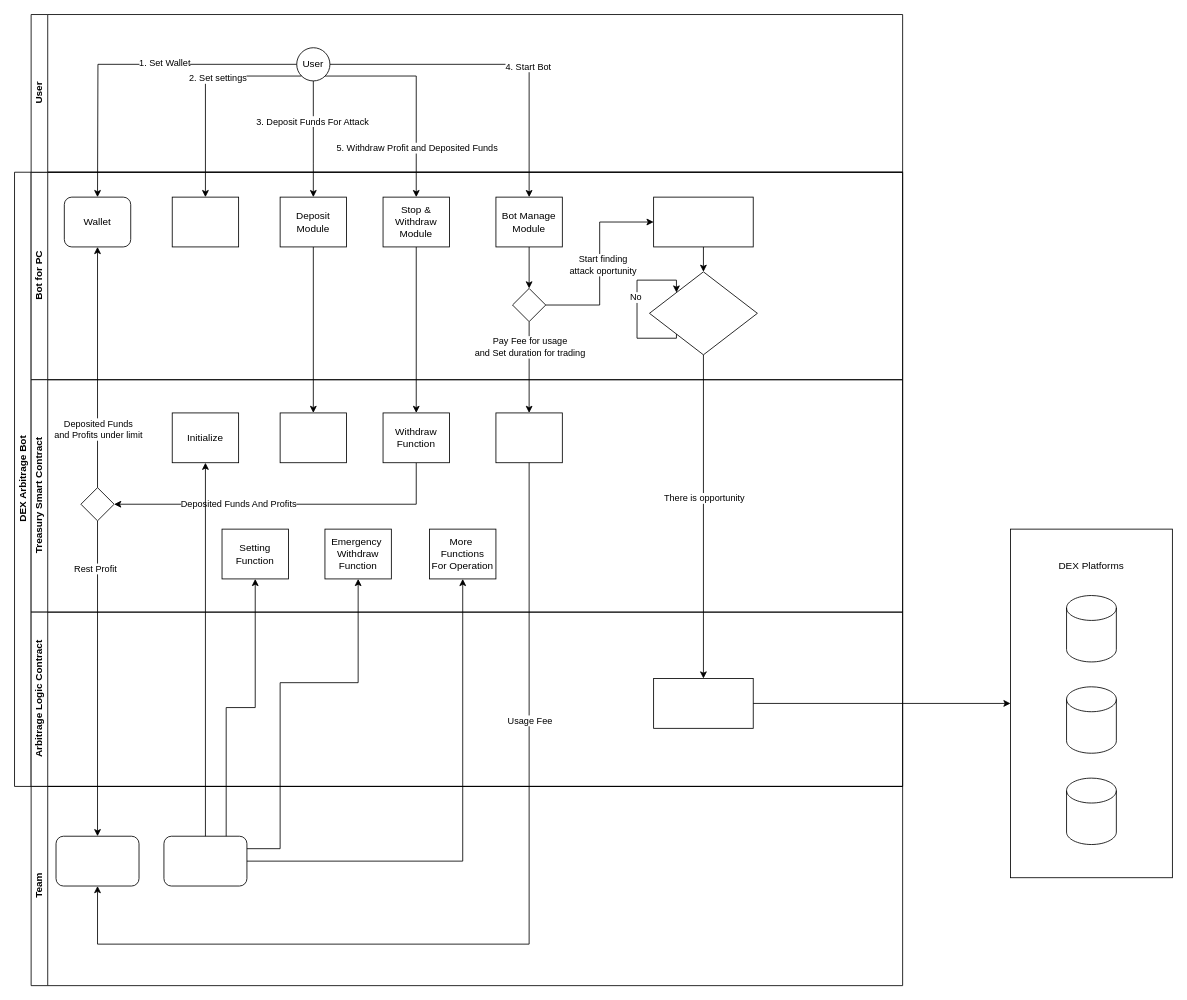
This 1187x1000 diagram has some shape labels left out. Here are the shapes that lost their labels. From the top down, the centre of each, then its label:
At point 205,221: "Settings Module".
At point 703,221: "Main Logic Module".
At point 703,313: "Find Opportunity".
At point 313,437: "Deposit Function".
At point 528,437: "Register Function".
At point 703,703: "Attack Module".
At point 97,860: "Treasury Wallet".
At point 205,860: "Manage Wallet".
